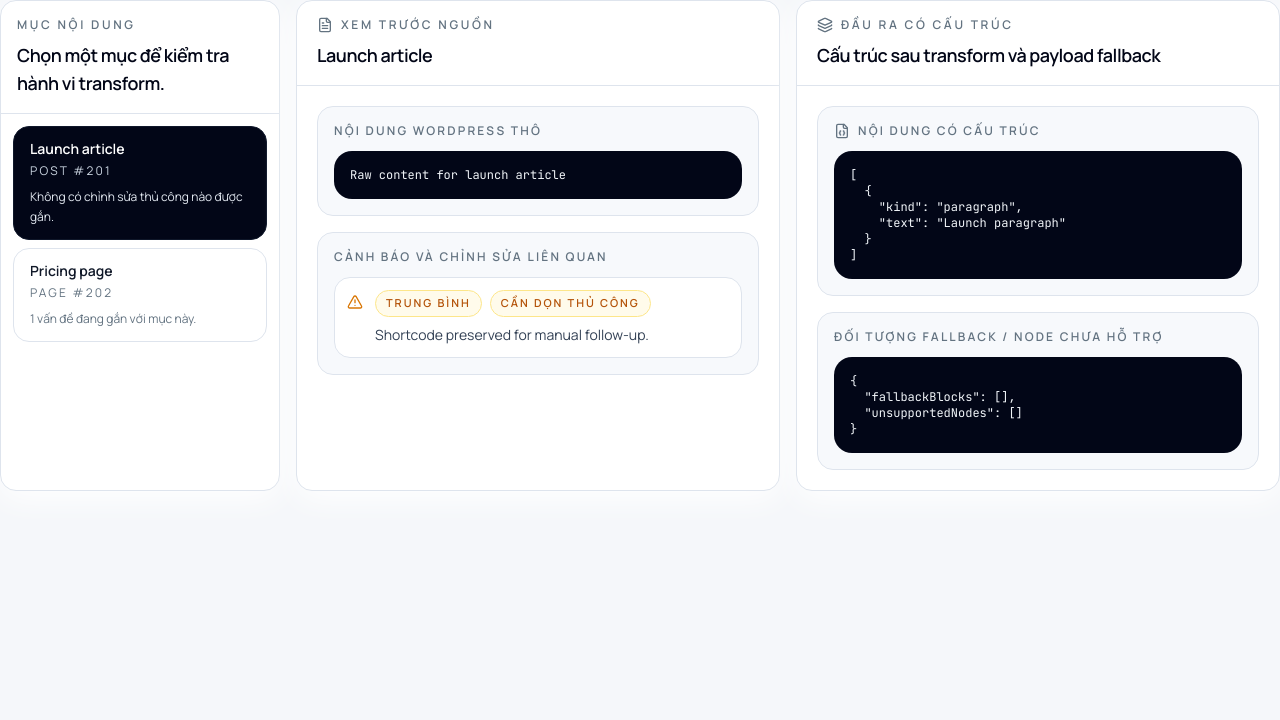
TransformCompareView › selects the first item by default and switches panes when another item is clicked
Expected: the text "Raw content for launch article" is shown, [334, 151, 742, 199]
Click the button "Pricing page page #202 1 vấn đề đang gắn với mục này.": coordinates (140, 295) [13, 248, 267, 342]
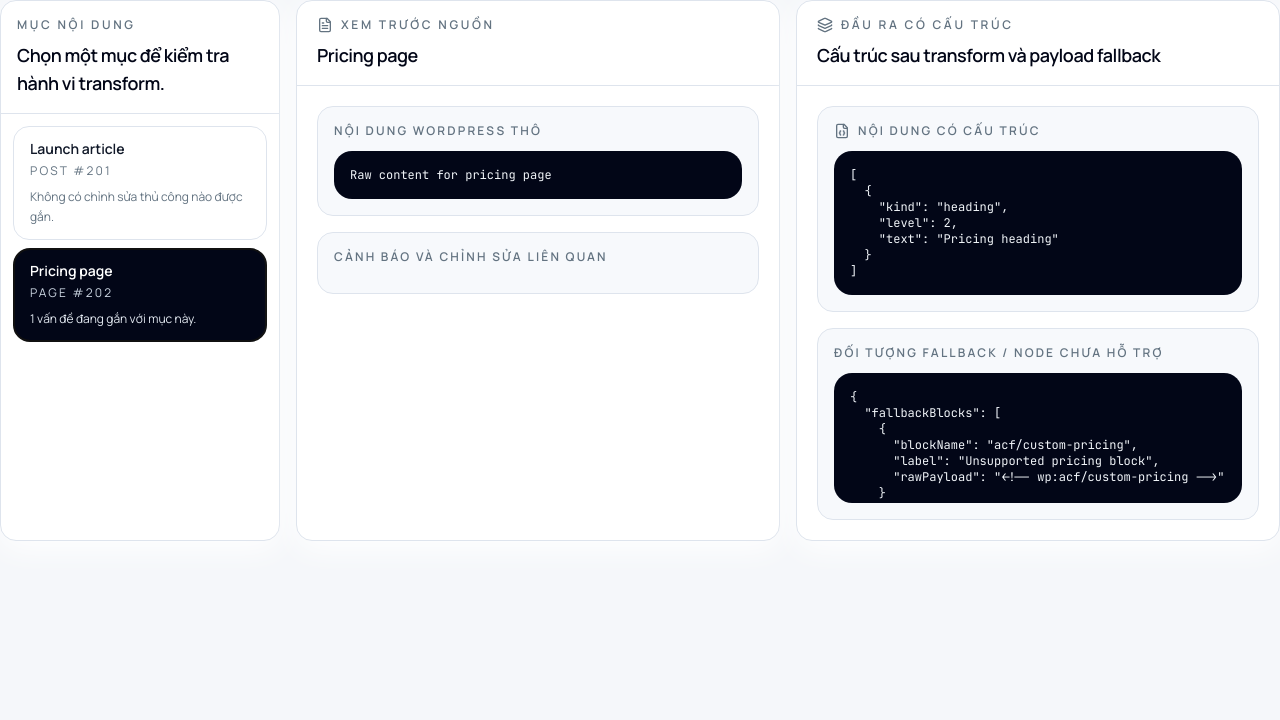
Result: the text "Raw content for pricing page" is shown at [334, 151, 742, 199]
